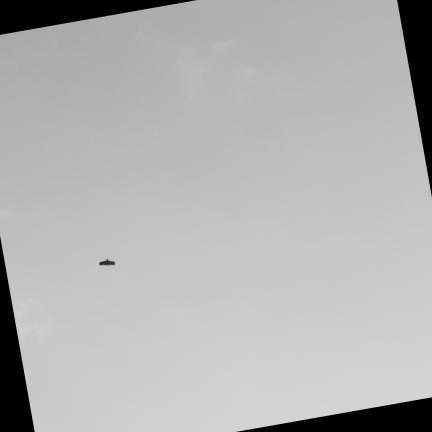Shahed: (98, 257, 116, 266)
